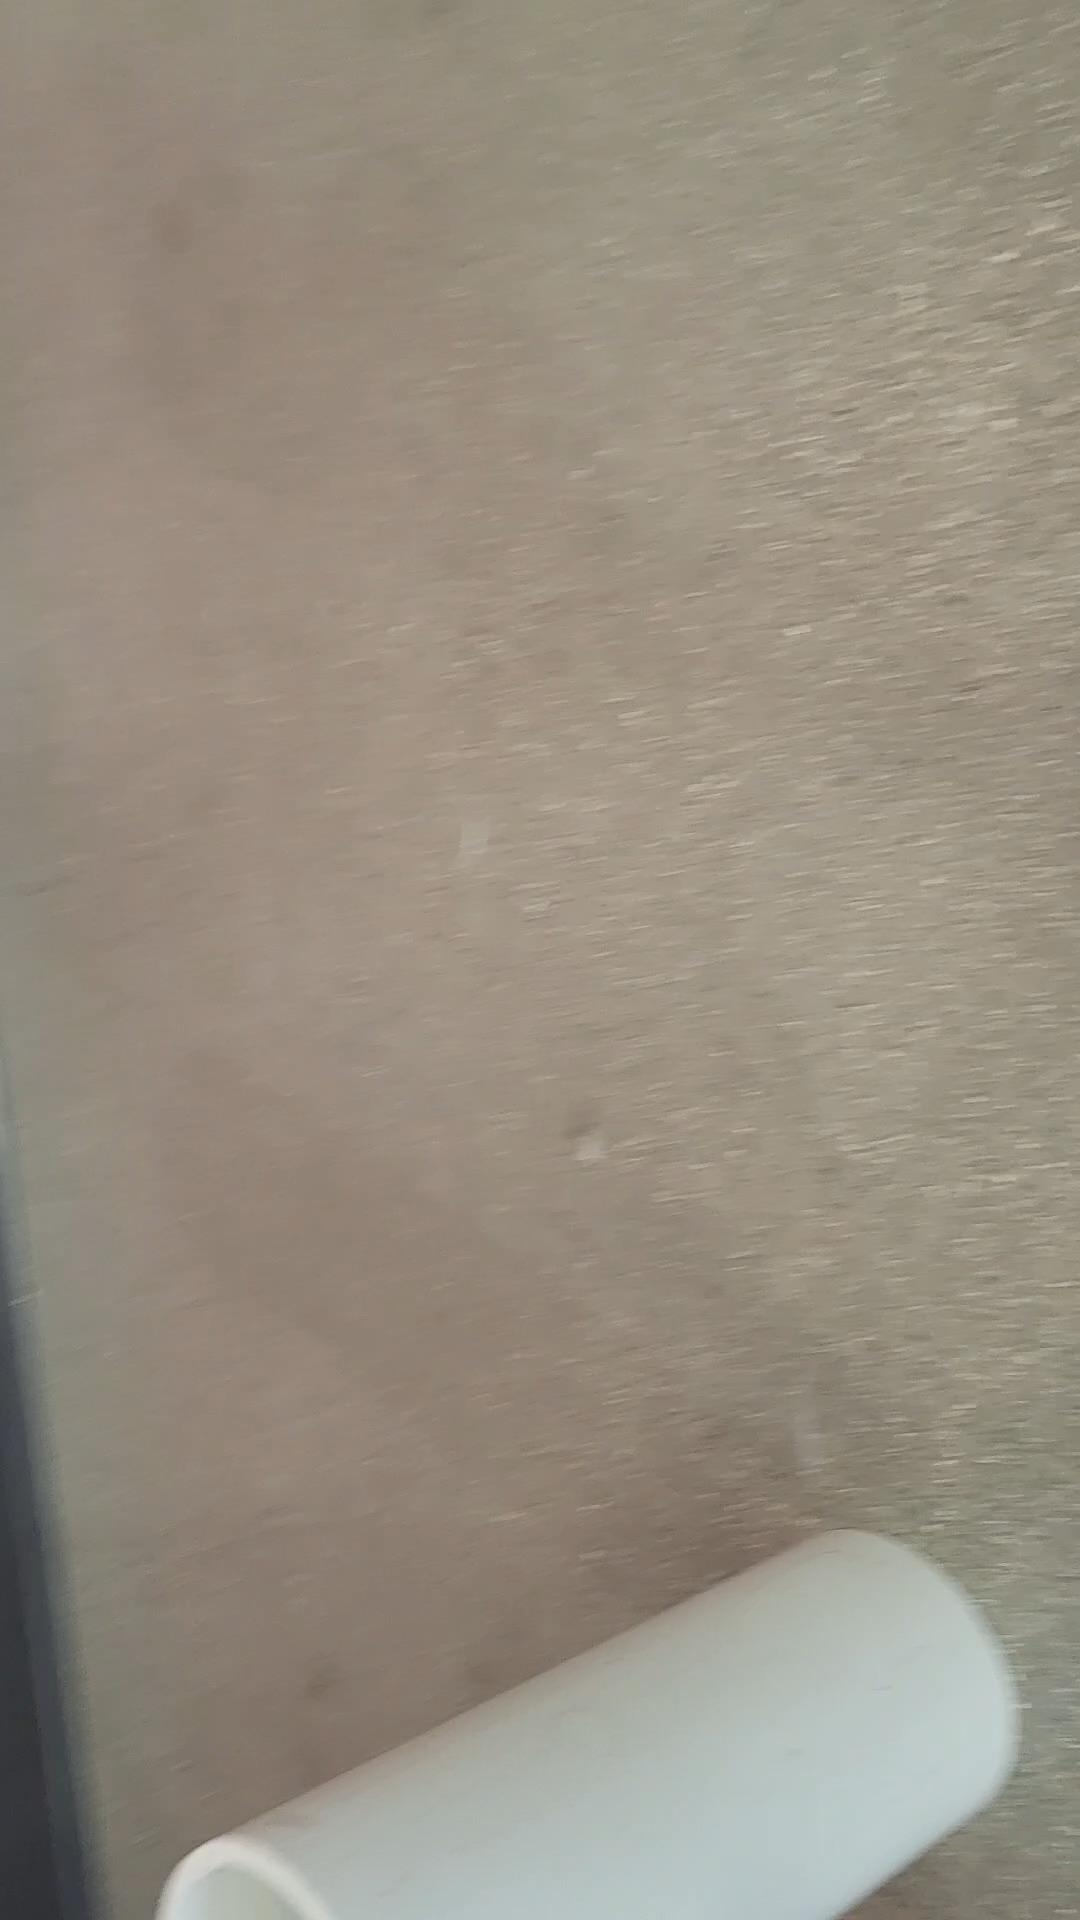coral: (128, 1527, 1027, 1920)
